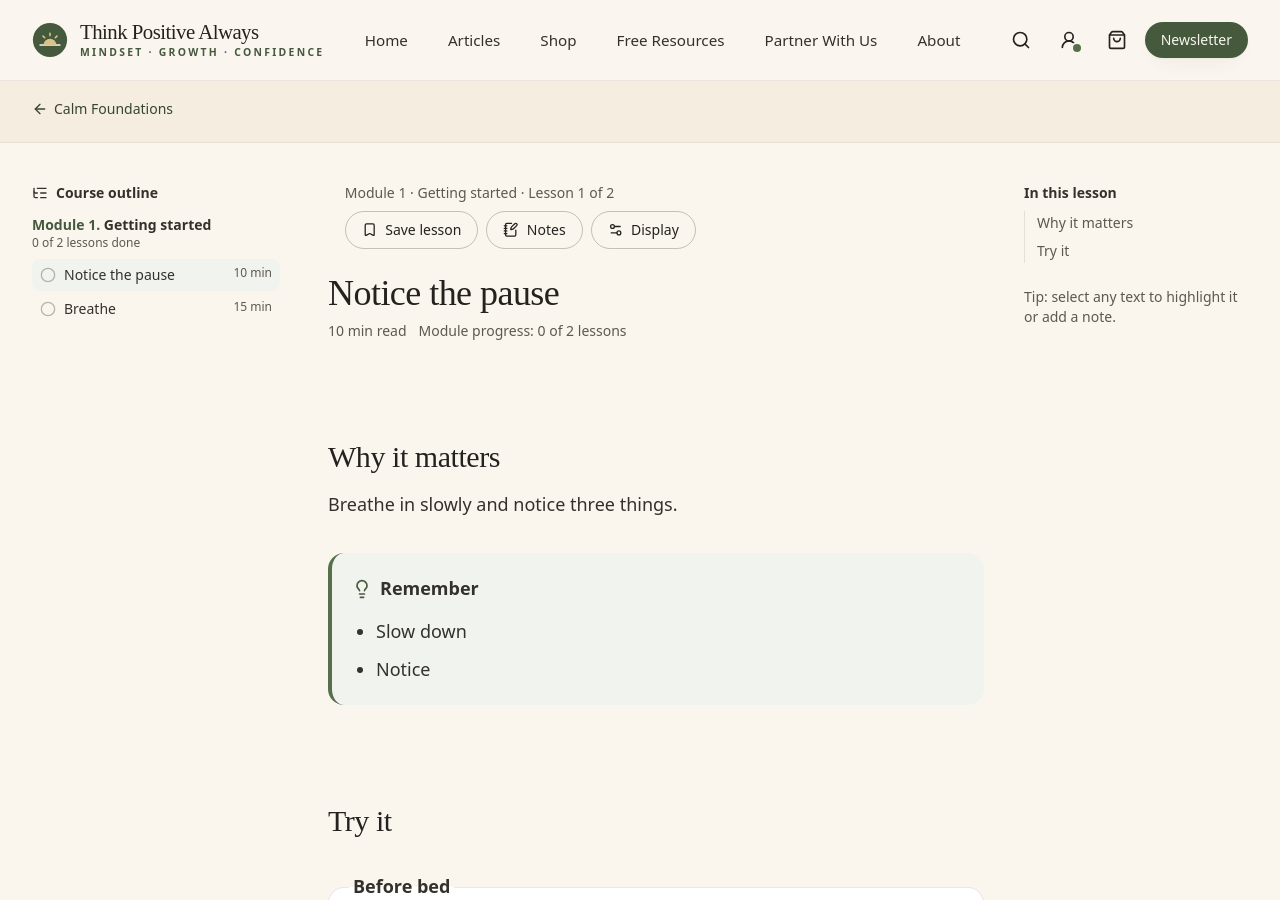
Test: premium lesson reader › writes private notes with autosave and clear status
Check: the heading "Notice the pause" is shown, box [328,273,559,313]
Click the button "Notes" at (535, 230), box [486,211,583,249]
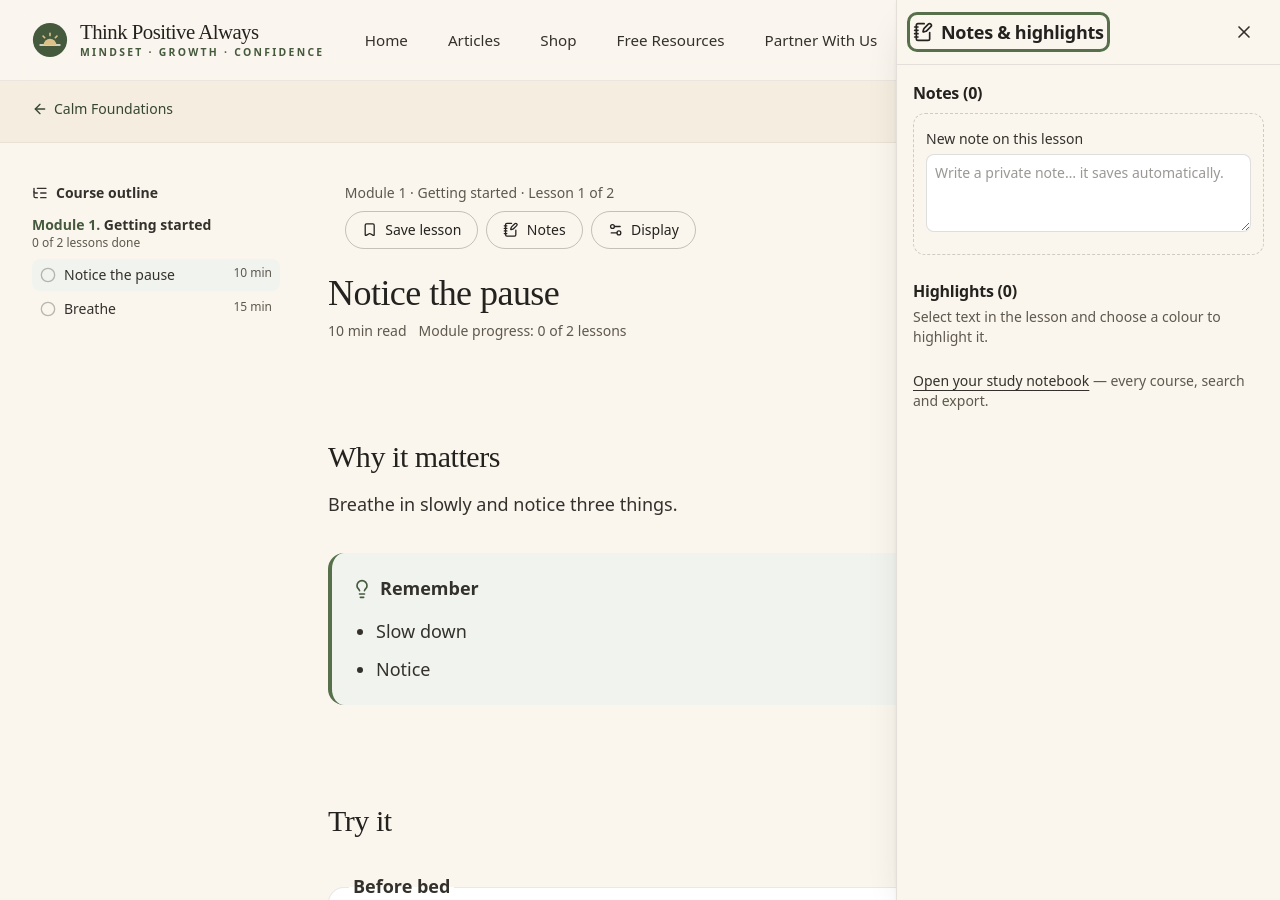
Type "Pause first" into the text box labelled "New note on this lesson" at (1088, 193), box [926,154,1251,232]
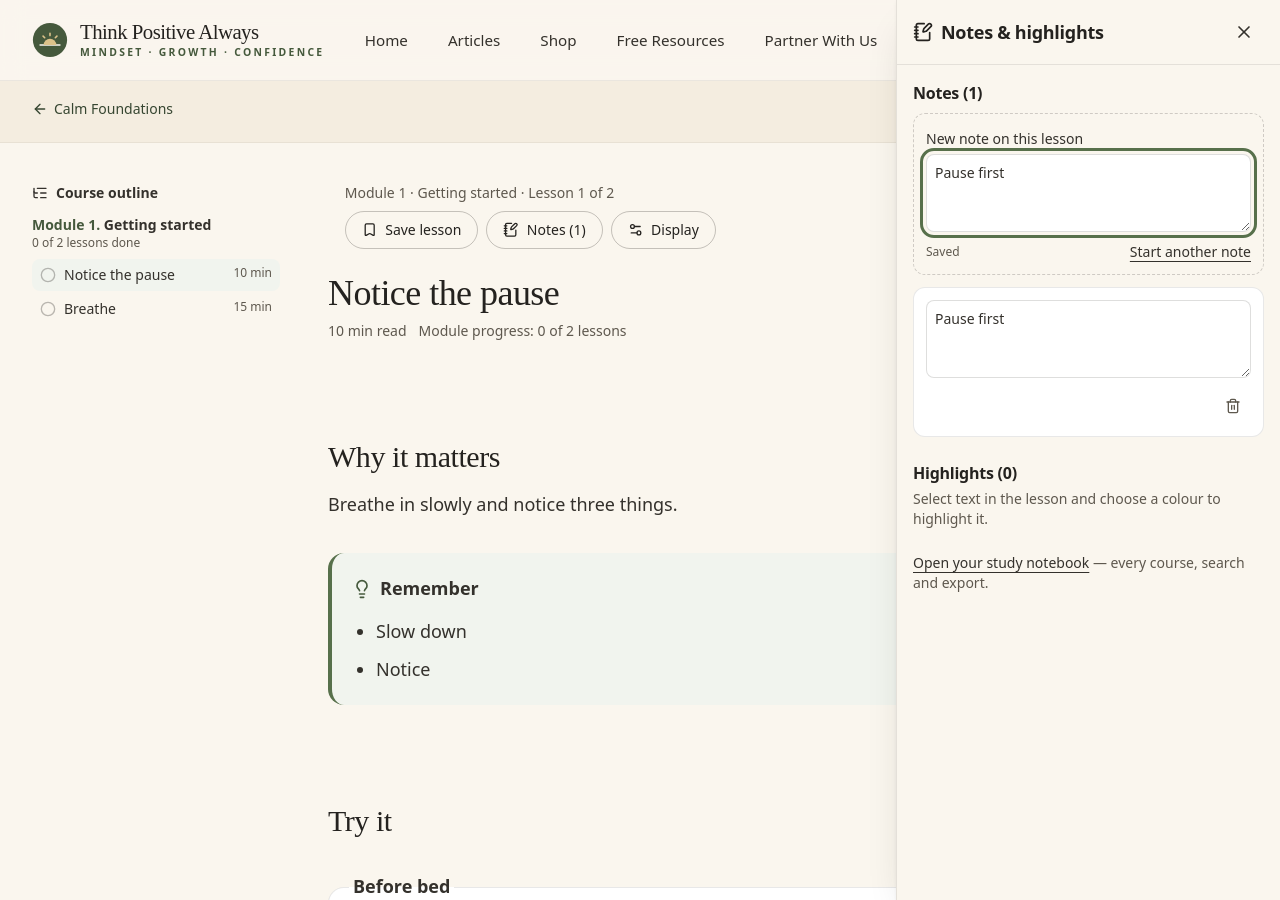
Check: the text "Saved" is shown, box [926,244,960,260]
Check: the heading "Notes (1)" is shown, box [913,82,982,104]
# Escape closes the panel and focus returns to the toggle.
Press Escape
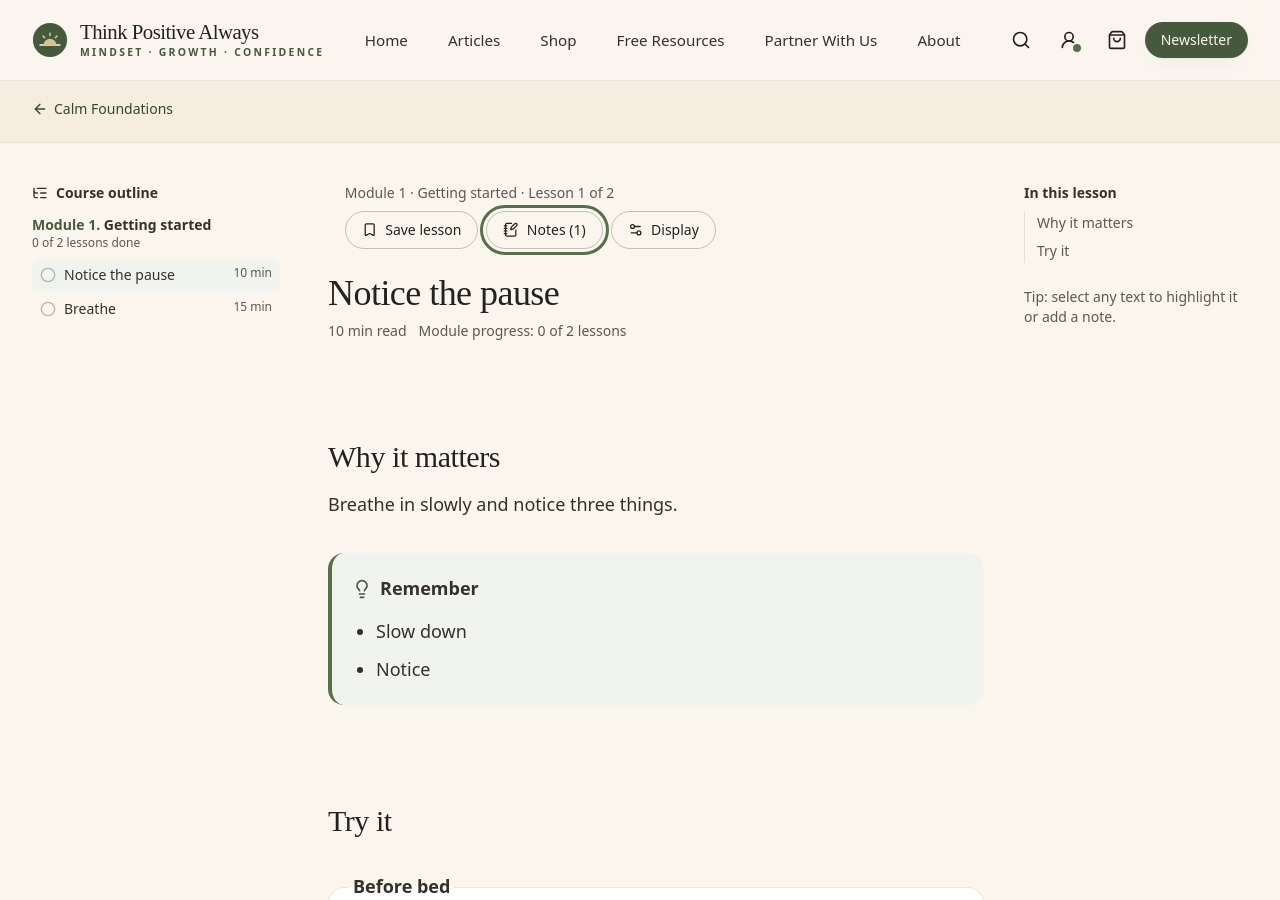
Check: the heading "Notes & highlights" is gone
